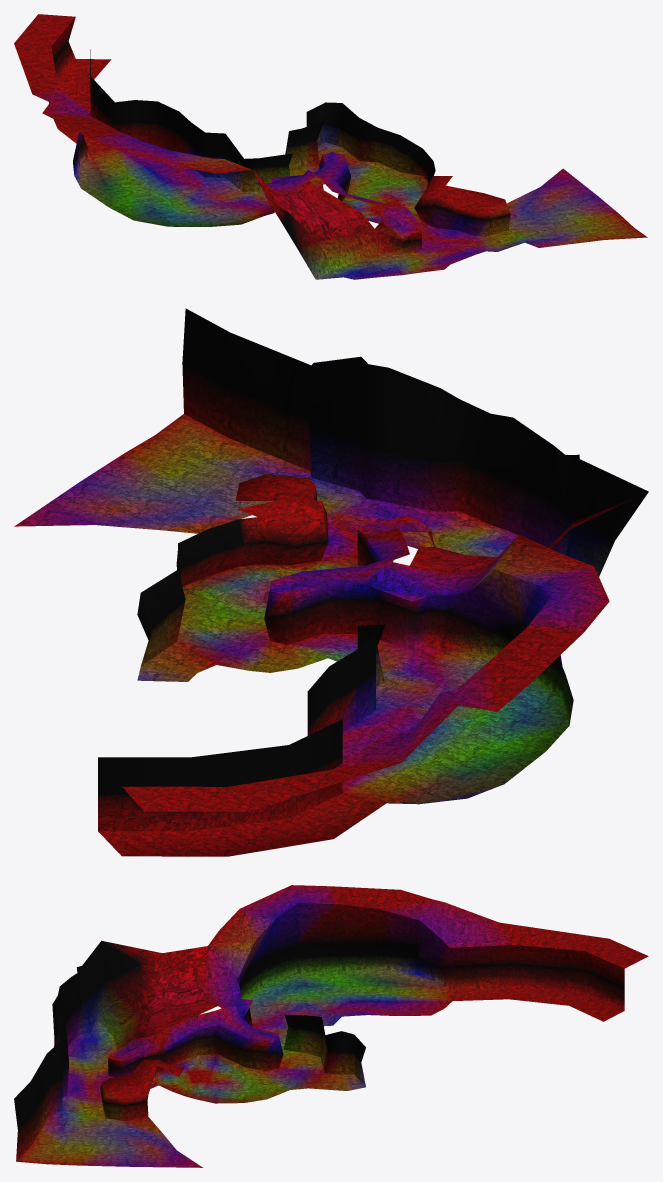
Rendered from Level01Remeshed.glb.
The picture shows the model from 3 angles, top to bottom: view 1: azimuth 30°, elevation 25°; view 2: azimuth 150°, elevation 25°; view 3: azimuth 270°, elevation 25°; orthographic projection. The views are drawn at different scales.
Parts seen in each view (by area): view 1: Plane; view 2: Plane; view 3: Plane.
Part boxes in pixels (bbox=[...]): Plane: bbox=[14, 14, 647, 279]; Plane: bbox=[14, 308, 648, 856]; Plane: bbox=[14, 885, 648, 1167].
Bounding box in the file's own units: 125 × 25.07 × 167.
Materials: 1 (1 with a texture image).
